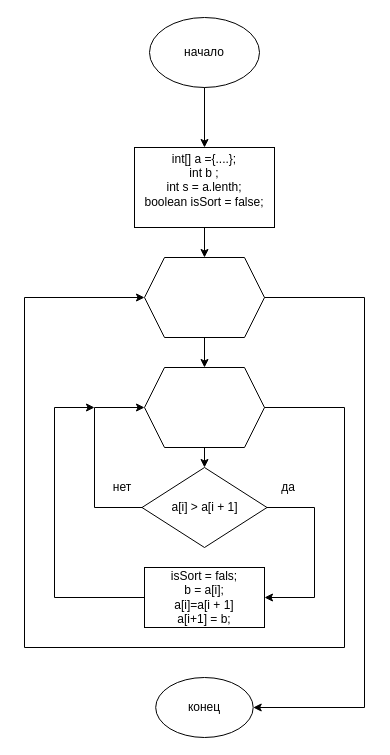
Some shapes in this 390 by 755 pixel diagram are drawn without their labels. Here are the shapes that lost their labels. From the top down, the box of each, then its label:
(144, 256, 264, 338): while(!isSort)
(144, 366, 264, 448): i = 0; i < s - 1; i++;
